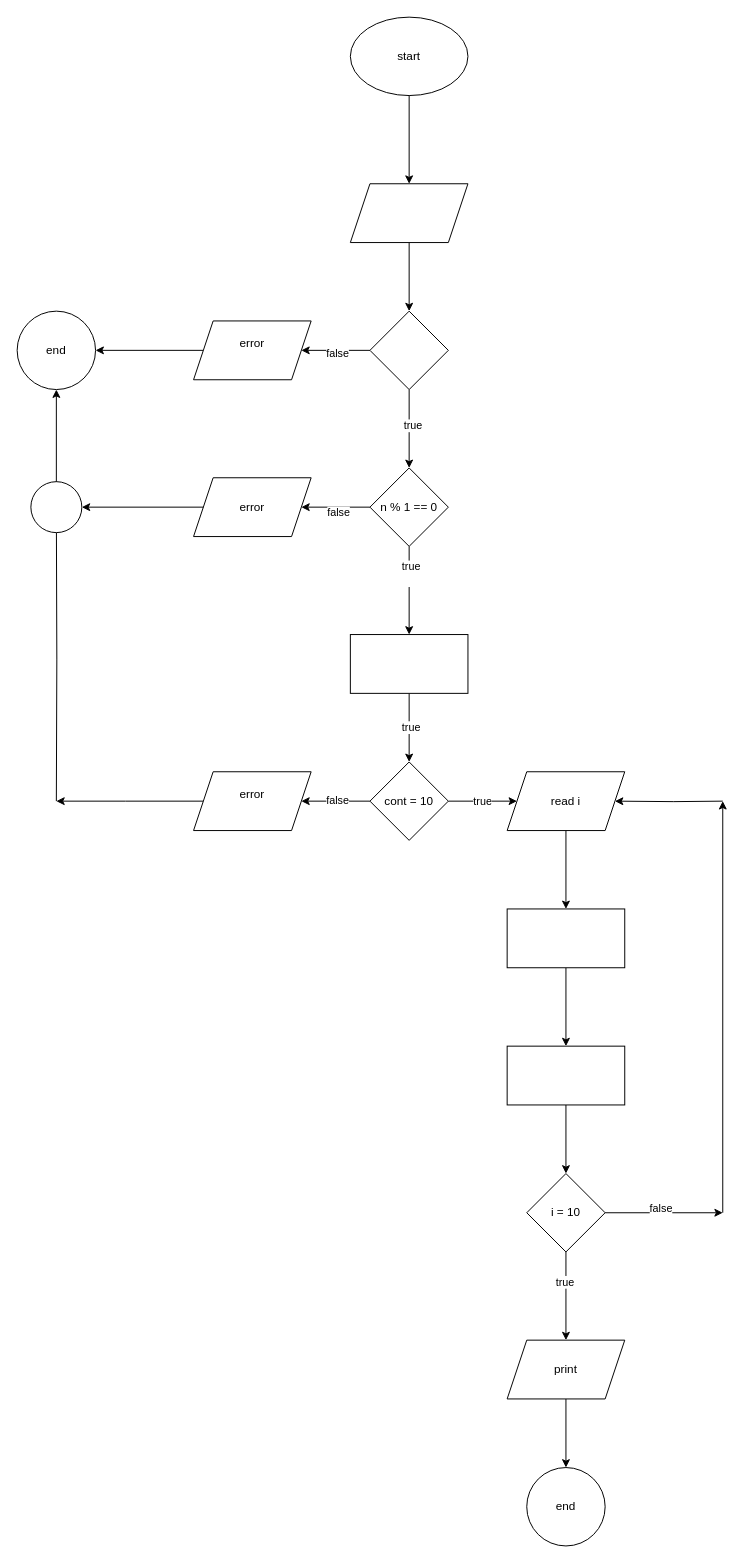
The diagram is 748 pixels wide and 1563 high, and some of its shapes have lost their labels. Each missing label, with the box of its shape:
cont = 0: (349, 634, 468, 693)
i + 1: (506, 1045, 625, 1105)
n % d + 1: (506, 908, 625, 968)
n = 0: (369, 310, 448, 390)
read number: (349, 183, 468, 243)
